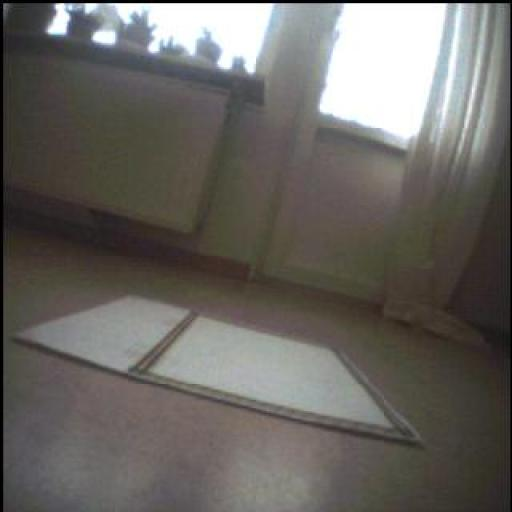Pad: (17, 297, 422, 444)
